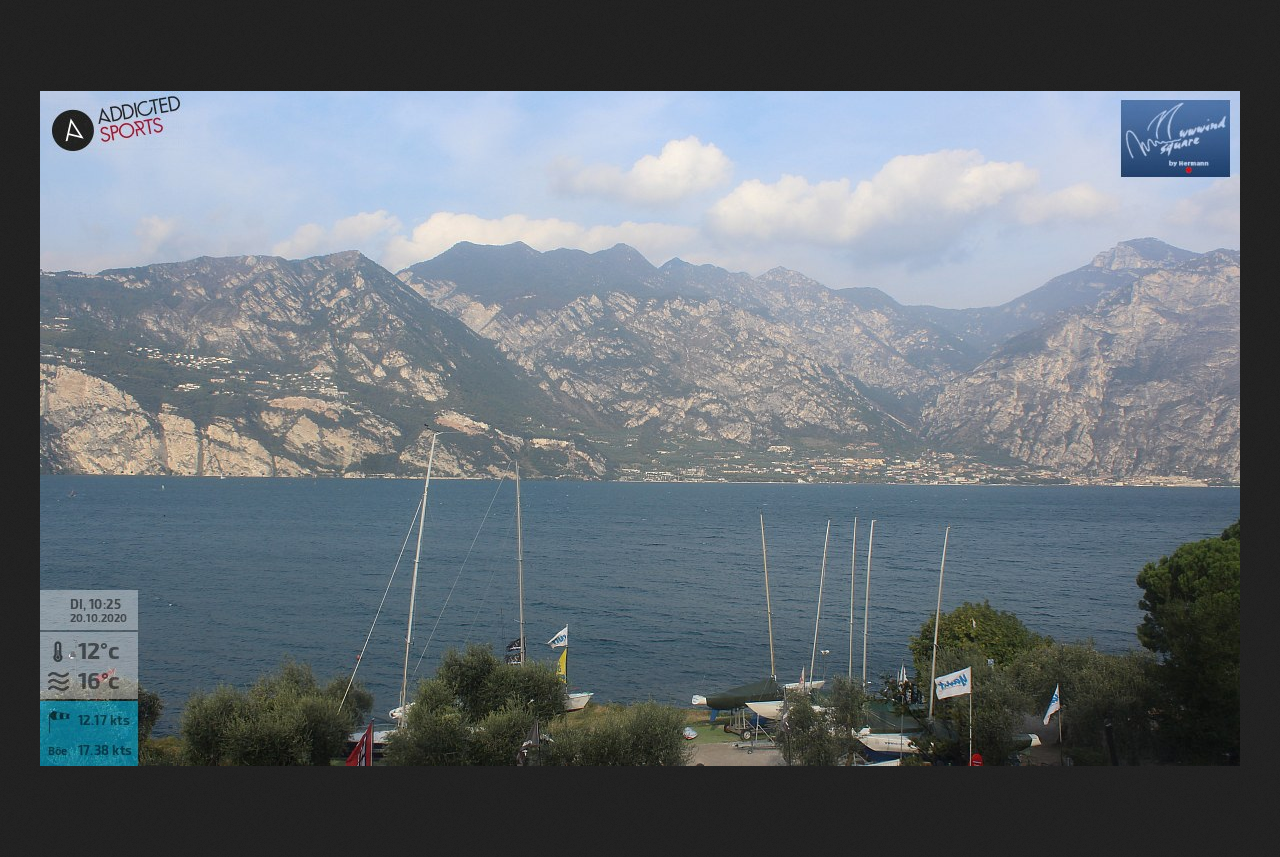maybe: (545, 626, 569, 646)
no: (1044, 683, 1062, 726)
yes: (932, 670, 971, 700)
